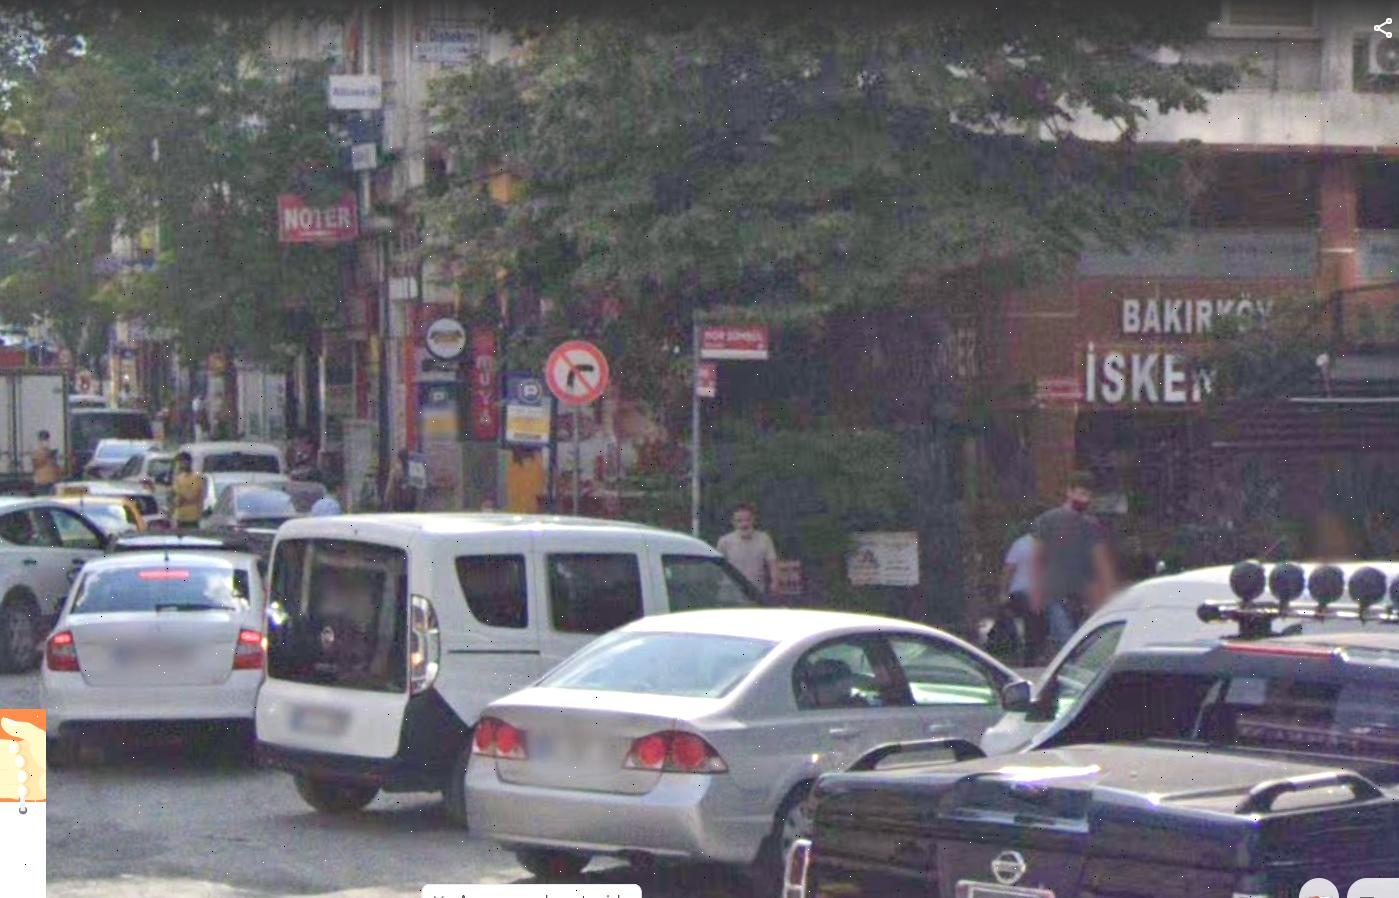rightturnsareforbidden: (543, 341, 610, 403)
